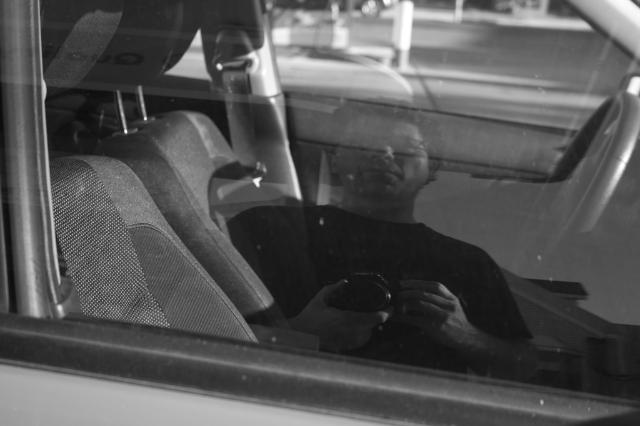Seatbelt: (215, 70, 257, 166)
